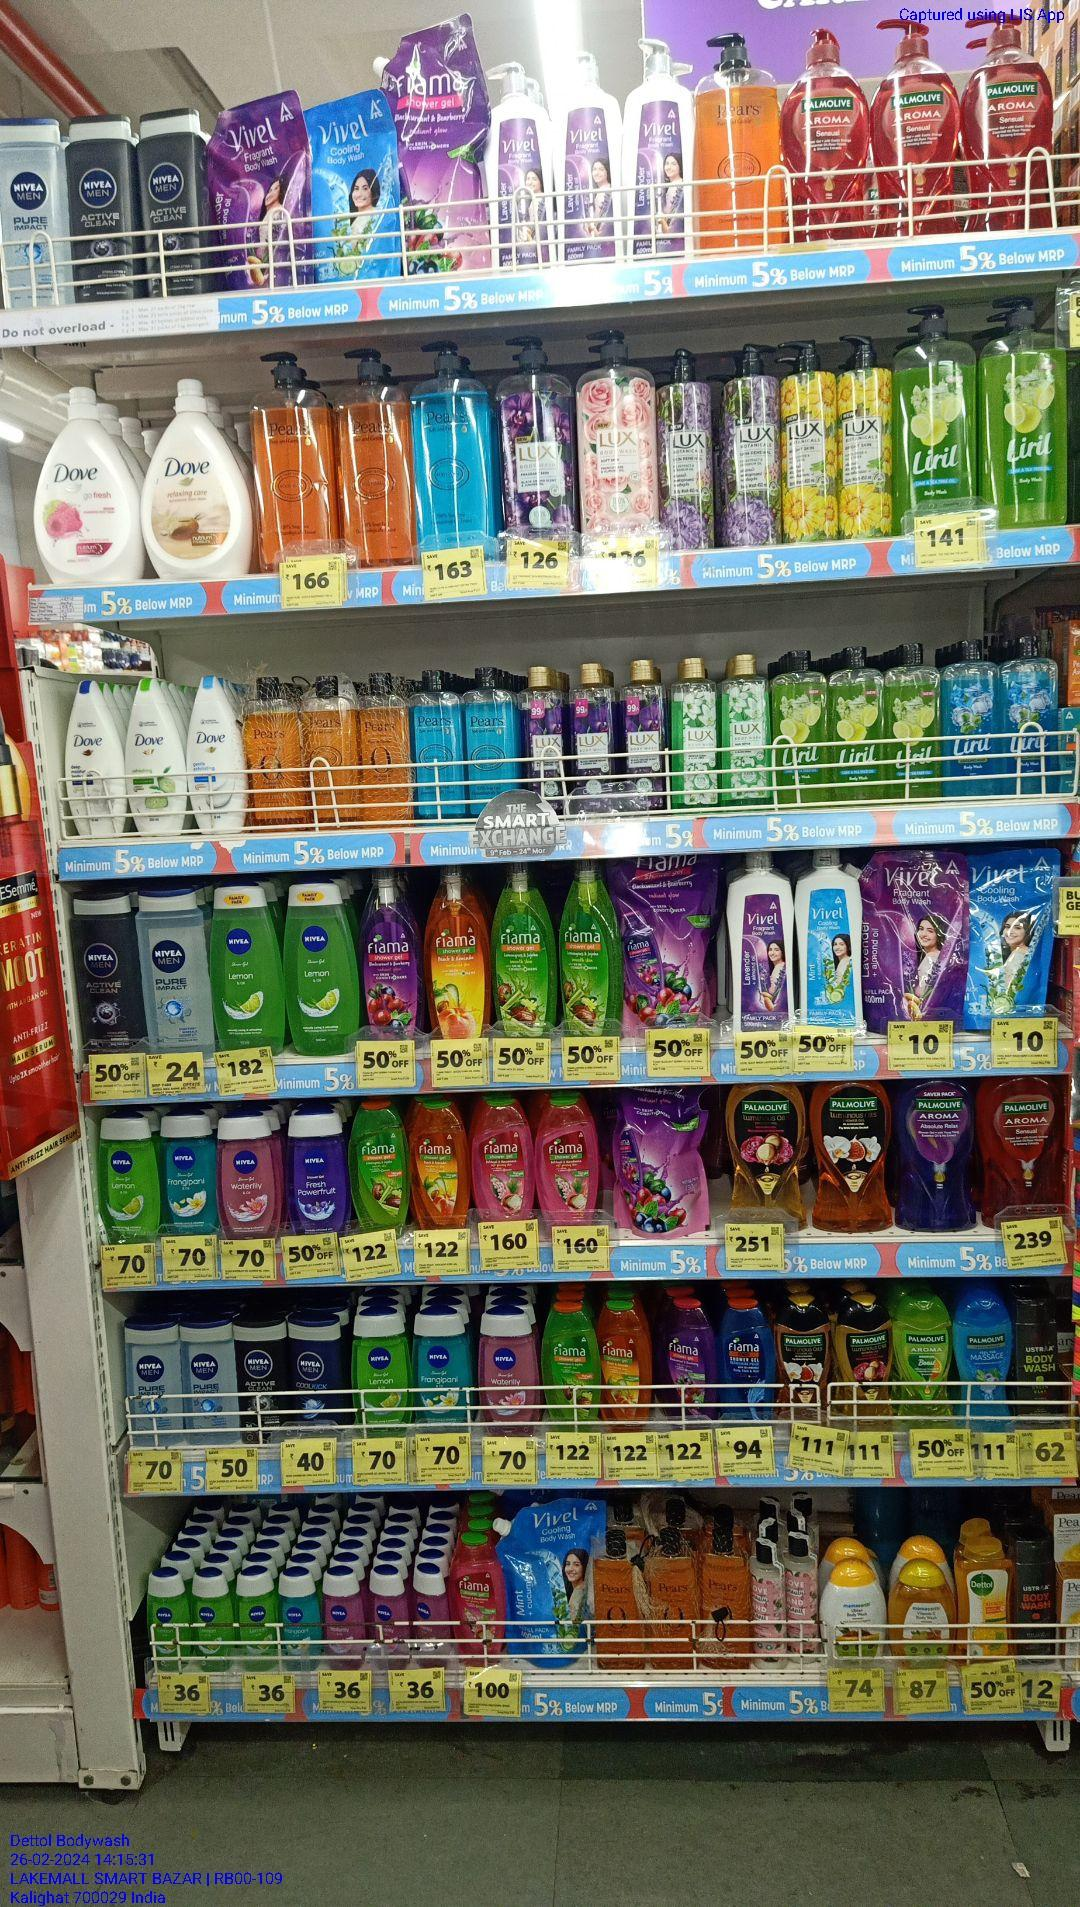Dettol_Bodywash_Refresh: (956, 1543, 1011, 1659)
Dove_Deep_Moisture_Body_Wash_250ML: (64, 682, 124, 836)
Dove_Gentle_Exfoliating_Body_Wash_250ML: (189, 677, 245, 837)
Dove_Refreshing_Body_Wash_250ML: (126, 680, 185, 836)
Fiama_Shower_Gel_Lemongrass_and_Jojoba_250ML: (542, 1305, 598, 1433), (351, 1103, 407, 1229)
Fiama_Shower_Gel_Patchouli_and_Macadamia_250ML: (535, 1098, 600, 1226), (470, 1099, 530, 1219), (453, 1540, 501, 1666)
Fiama_Shower_Gel_Peach_and_Avocado_250ML: (411, 1103, 465, 1229), (601, 1302, 651, 1432)
Liril_Cooling_Mint_Body_Wash_250ML: (1003, 637, 1059, 794), (945, 640, 999, 795)
Liril_Lime_and_Tea_Tree_Oil_Body_Wash_250ML: (888, 644, 941, 798), (775, 650, 827, 803), (833, 647, 885, 799)
Lux_Black_Orchid_Scent_and_Juniper_Oil_Body_Wash_245ML: (569, 663, 617, 811), (621, 659, 665, 809), (522, 665, 566, 816)
Lux_Body_Wash_Skin_Detox_Freesia_Scent_and_Alove_Vera_245ML: (672, 656, 717, 807), (727, 655, 767, 807)
Nivea_Shower_Gel_Frangipani_and_Oil_250ML: (411, 1308, 470, 1428), (160, 1115, 213, 1231)
Nivea_Shower_Gel_Fresh_Powerfruit_250ML: (287, 1111, 346, 1232)
Nivea_Shower_Gel_Lemon_and_Oil_250ML: (97, 1117, 156, 1243), (352, 1315, 410, 1435)
Nivea_Shower_Gel_Waterlily_and_Oil_250ML: (219, 1115, 278, 1238), (479, 1311, 535, 1434)
Palmolive_Aroma_Moments_Feel_The_Massage_Shower_Gel_250ML: (957, 1293, 1013, 1429)
Palmolive_Aroma_Morning_Tonic_Shower_Gel_250ML: (895, 1297, 952, 1429)
Palmolive_Luminous_Oils_Invigorating_Macadamia_Oil_With_Peony_250ML: (838, 1298, 890, 1432)
Palmolive_Luminous_Oils_With_White_Orchid_Shower_Gel_250ML: (774, 1302, 831, 1425)
Pears_Pure_Glycerin_and_Lemon_Flower_Extracts_Body_Wash_250ML: (209, 884, 284, 1054), (288, 884, 360, 1056)
Pears_Pure_Glycerin_and_Mint_Extracts_Body_Wash_250ML: (463, 665, 514, 815), (411, 672, 461, 816)
